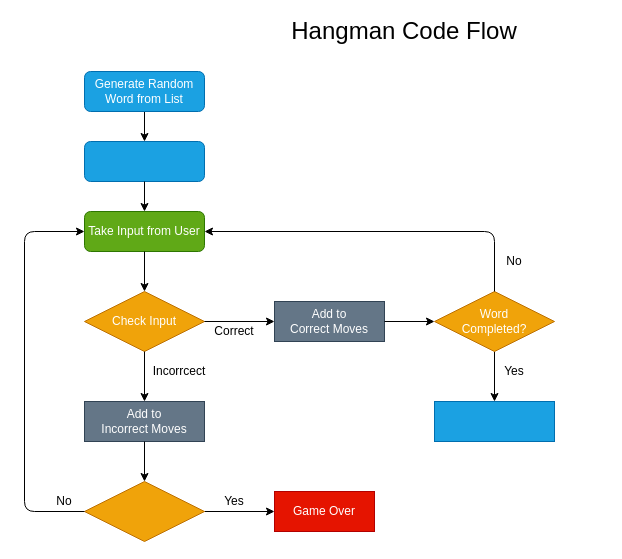
Some shapes in this 622 by 559 pixel diagram are drawn without their labels. Each missing label, with the box of its shape:
Generate Blank Letters: (84, 140, 204, 182)
Max Wrong Attempts?: (84, 480, 204, 542)
User Wins: (434, 400, 554, 442)
